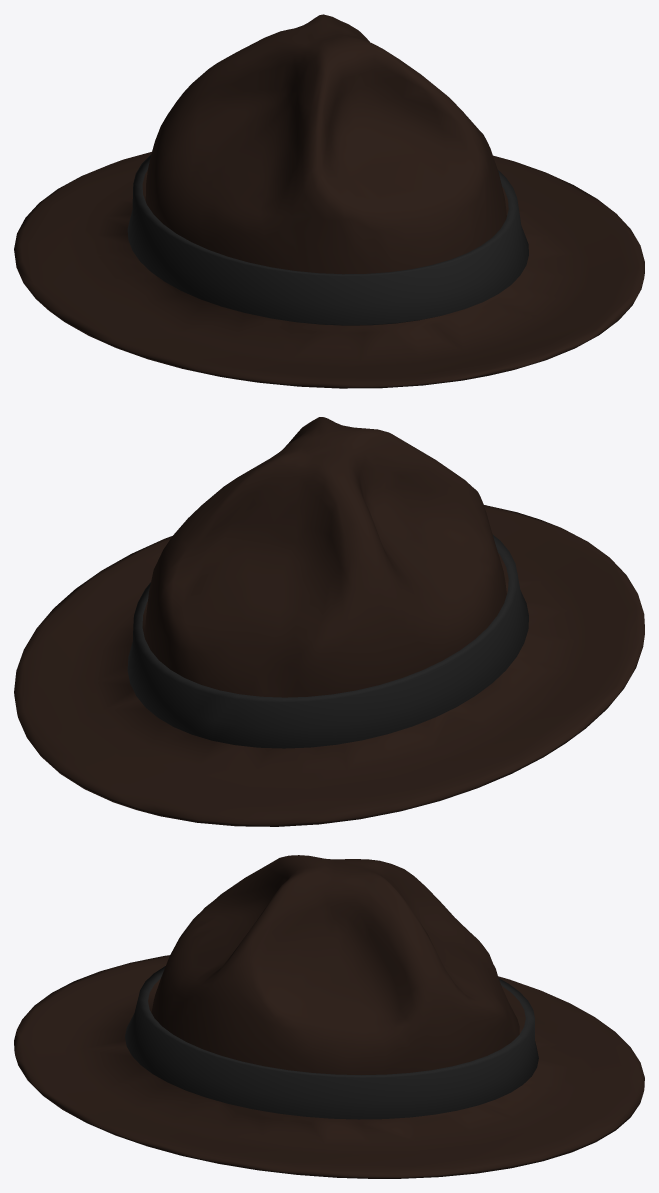
The model's file is outfit_mountie_hat.glb.
3 renders of one model, top to bottom at view 1: azimuth 30°, elevation 25°; view 2: azimuth 150°, elevation 25°; view 3: azimuth 270°, elevation 25°, orthographic. The views are drawn at different scales.
Parts seen in each view (by area): view 1: outfit_mountie_hat; view 2: outfit_mountie_hat; view 3: outfit_mountie_hat.
Part boxes in pixels (x1,y1,x2,y2): outfit_mountie_hat: (14,14,644,388); outfit_mountie_hat: (14,417,644,826); outfit_mountie_hat: (14,855,644,1178).
Bounding box in the file's own units: 0.6516 × 0.2999 × 0.7668.
